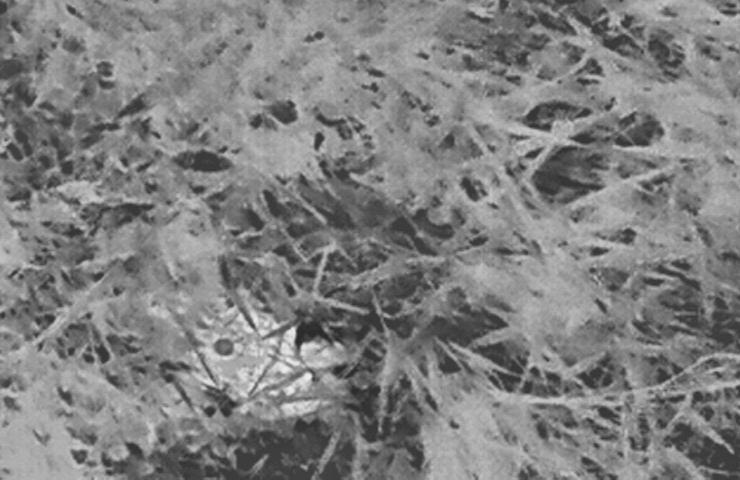landmines: (163, 290, 350, 436)
